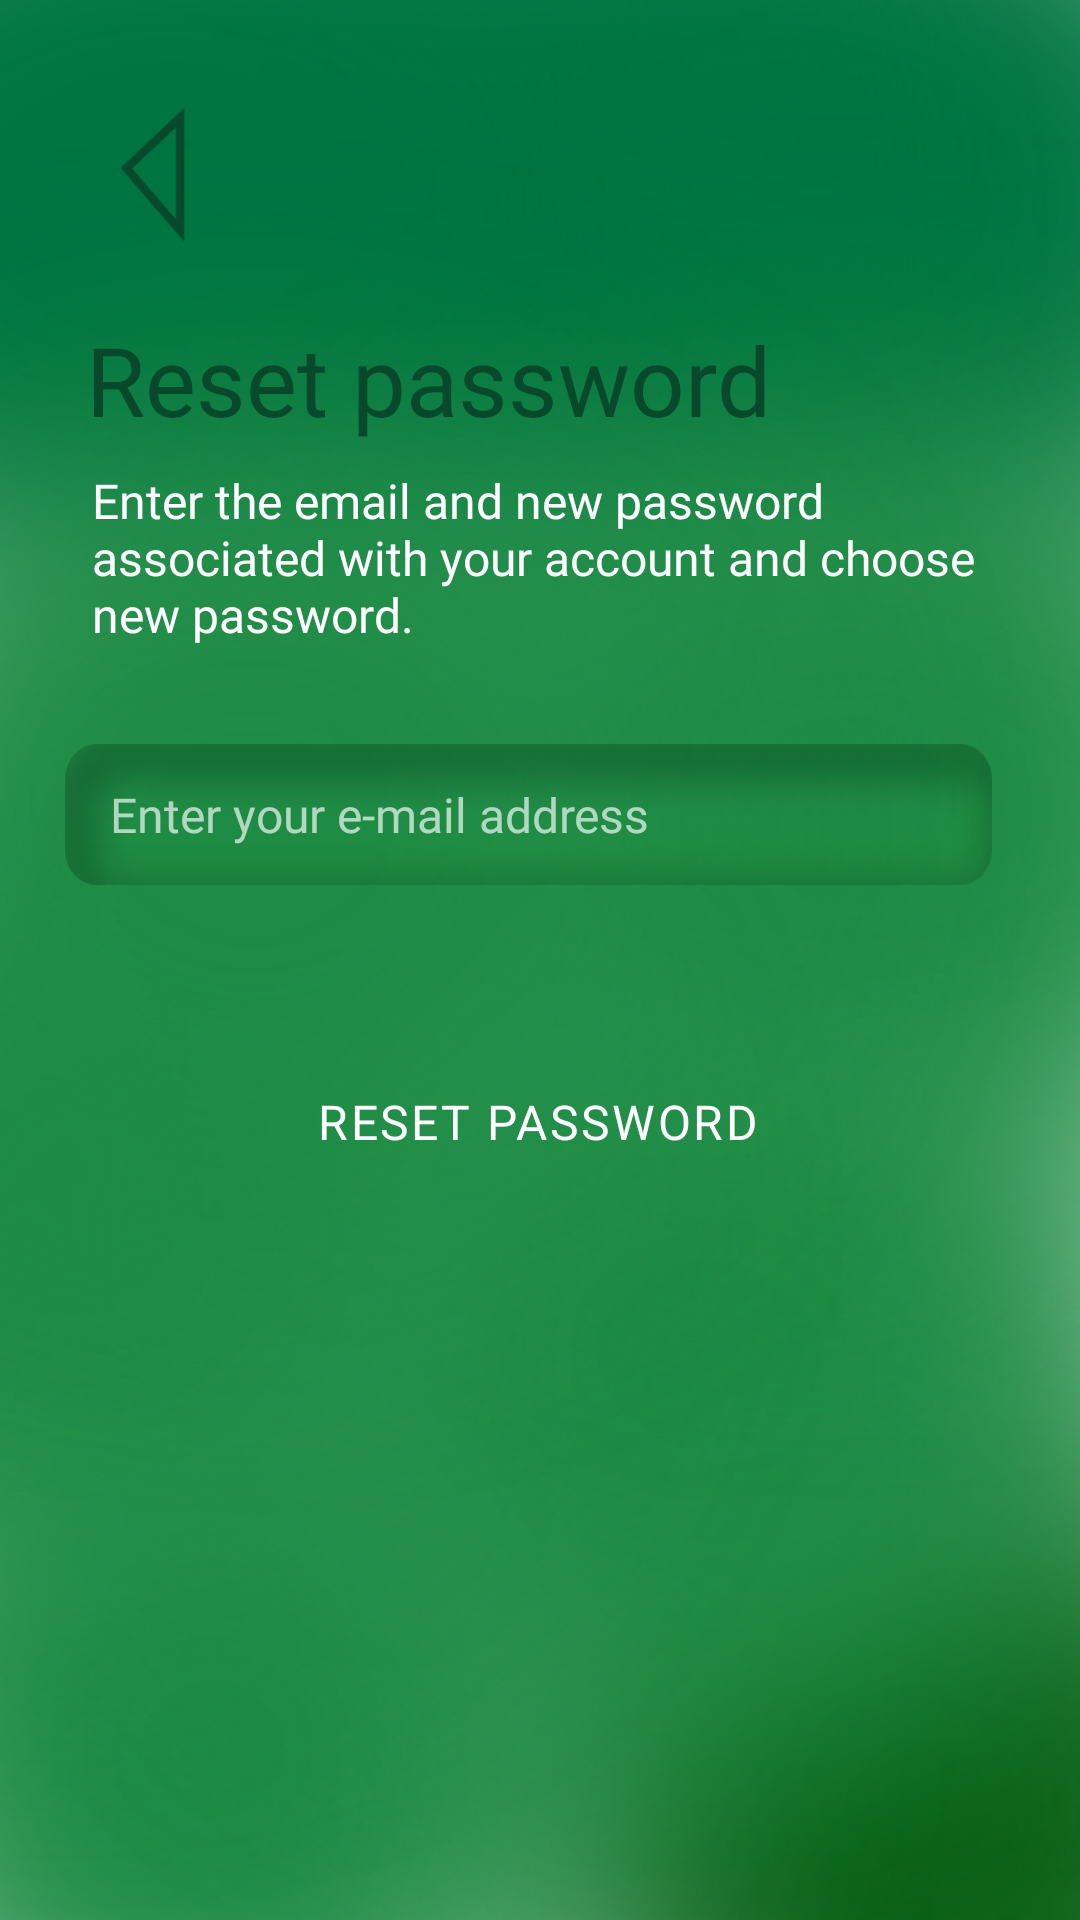

Where icons sit on this 1080x1920 app screen, as (x1, y1, x2, y2):
back: (121, 109, 184, 240)
